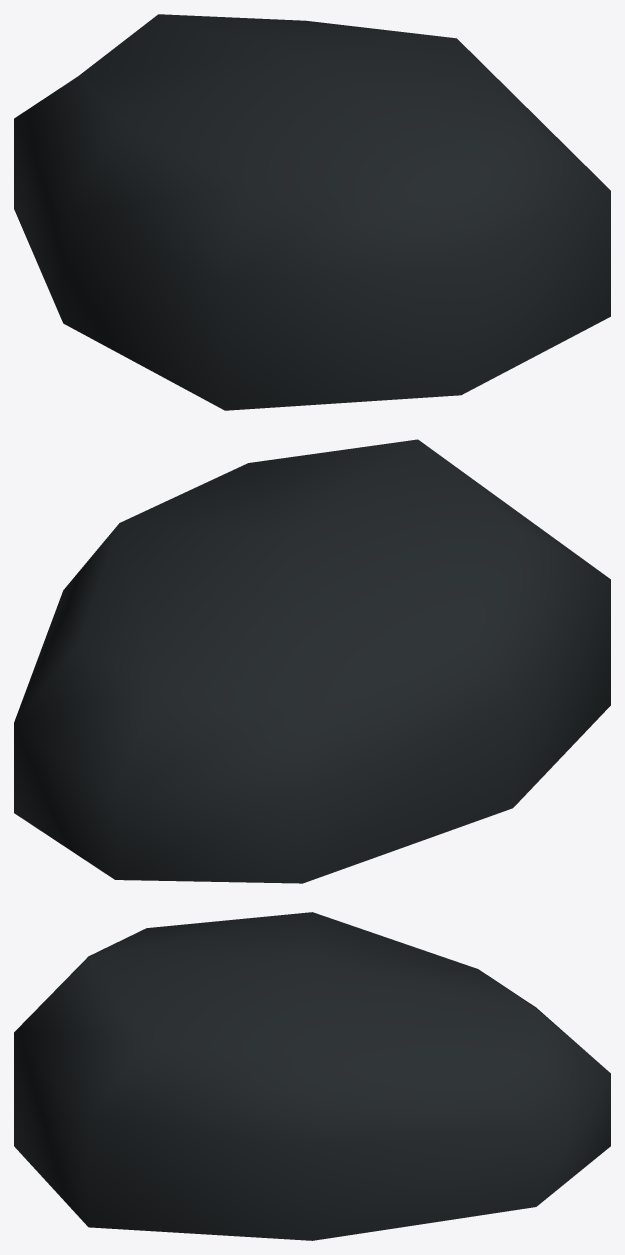
Rendered from mouse.glb.
The picture shows the model from 3 angles, top to bottom: view 1: azimuth 30°, elevation 25°; view 2: azimuth 150°, elevation 25°; view 3: azimuth 270°, elevation 25°; orthographic projection. The views are drawn at different scales.
Parts seen in each view (by area): view 1: Mouse_01; view 2: Mouse_01; view 3: Mouse_01.
Part boxes in pixels (bbox=[...]): Mouse_01: bbox=[14, 14, 610, 410]; Mouse_01: bbox=[14, 439, 610, 883]; Mouse_01: bbox=[14, 912, 610, 1240].
Size of the model in its own units: 0.1187 by 0.0552 by 0.1582.
1 material, 1 textured.
